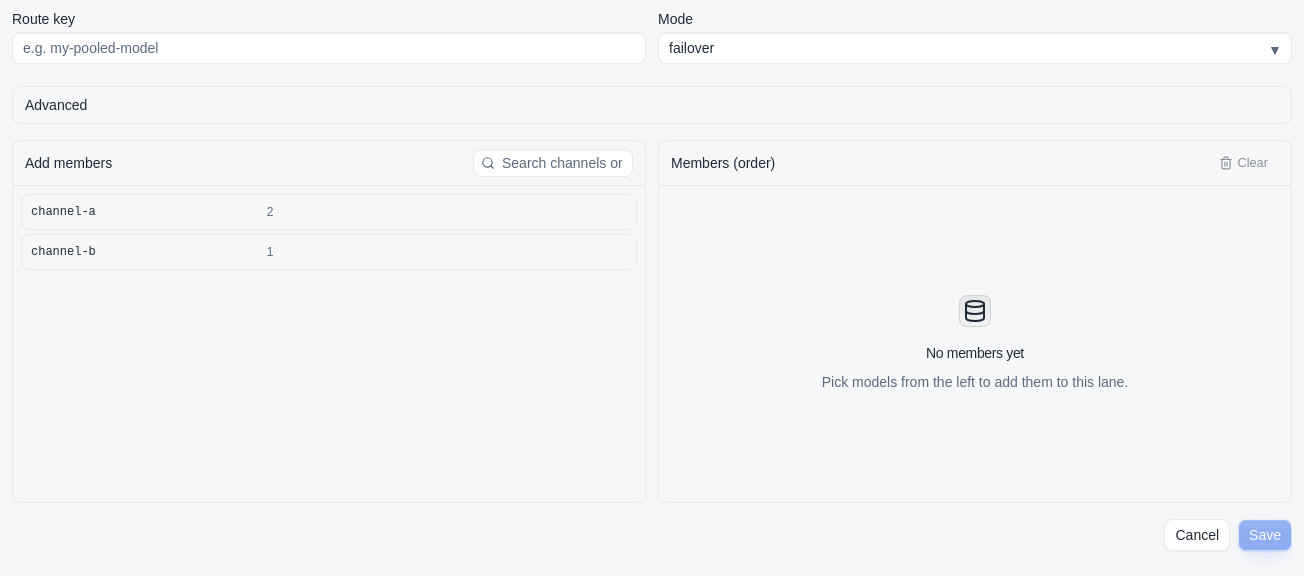
Test: 车道成员编排器 › 左栏按 (渠道, 模型) 去重：已加入的模型禁用，同渠道别的模型仍可加
The width and height of the screenshot is (1304, 576).
Type "pool-fast" into the field labelled "Route key" at coordinates (329, 48), box [12, 32, 646, 64]
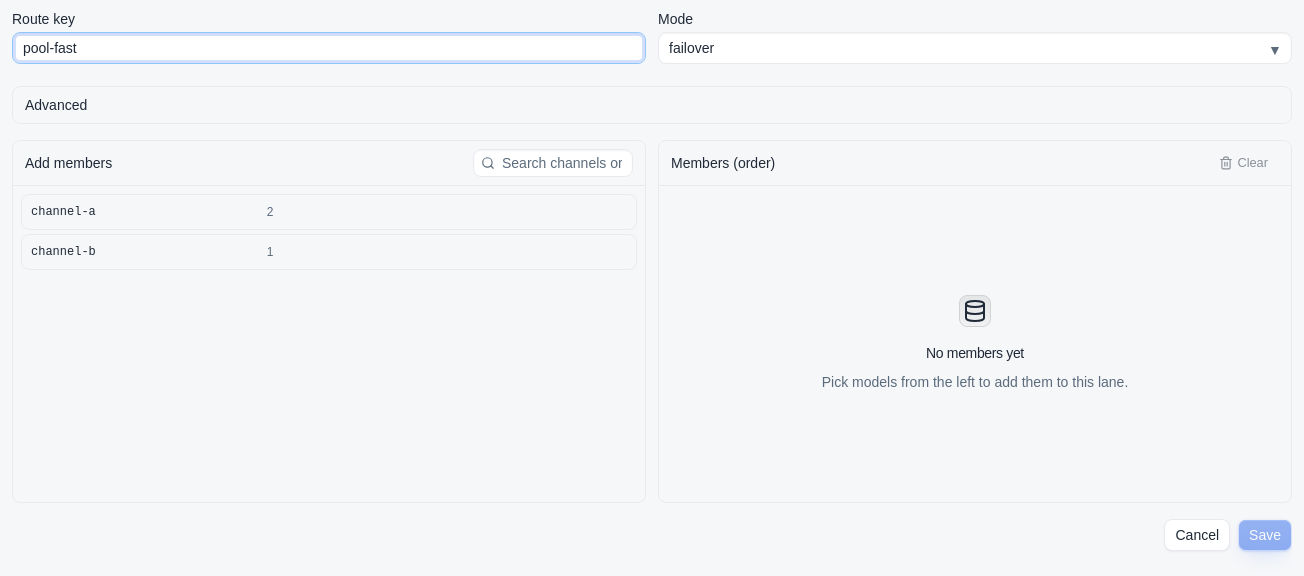
Click the button "channel-a 2" at coordinates (63, 212), box [30, 195, 628, 229]
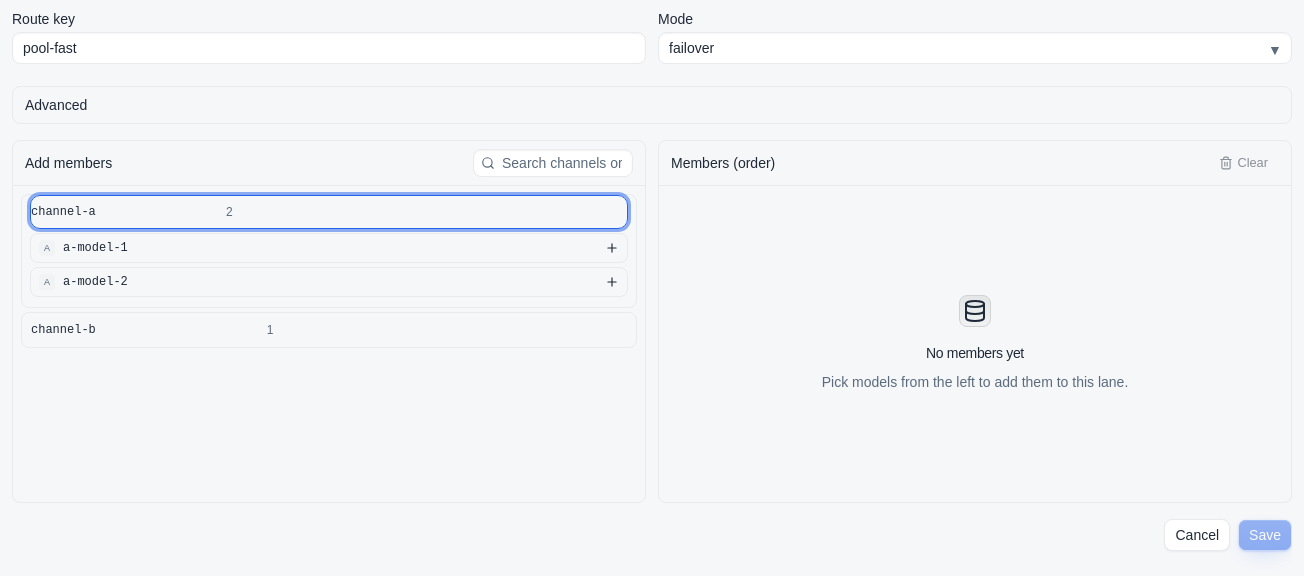
Click the button "a a-model-1" at coordinates (95, 248), box [30, 233, 628, 263]
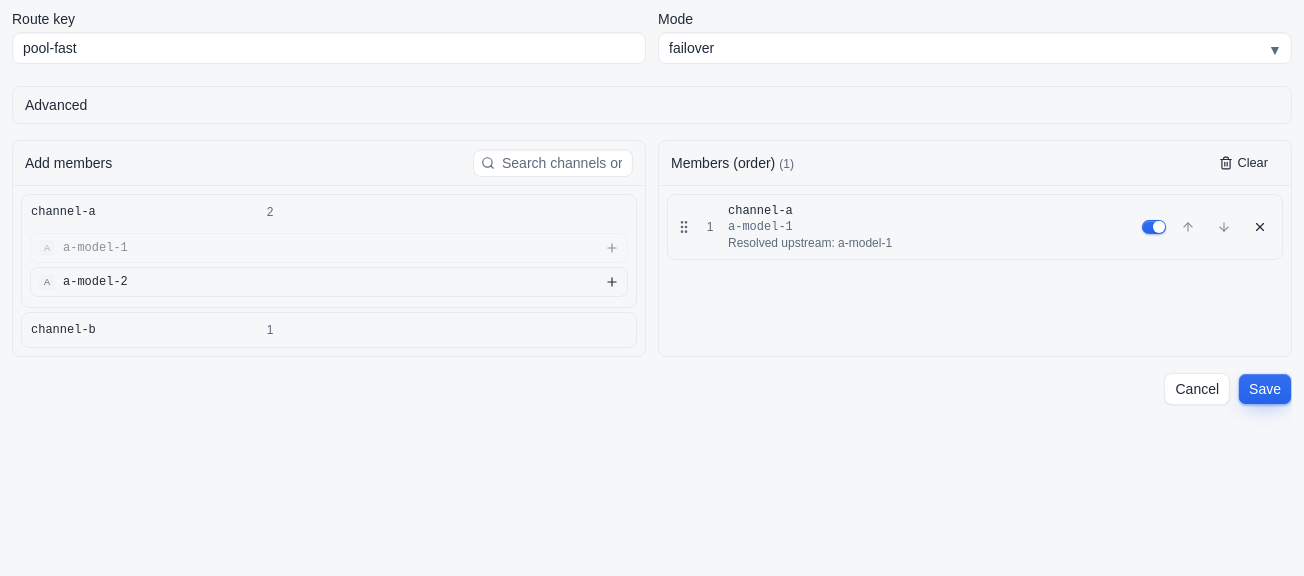
Expected: the button "a a-model-2" is enabled, [30, 267, 628, 297]
Expected: the button "a a-model-1" is disabled, [30, 233, 628, 263]
